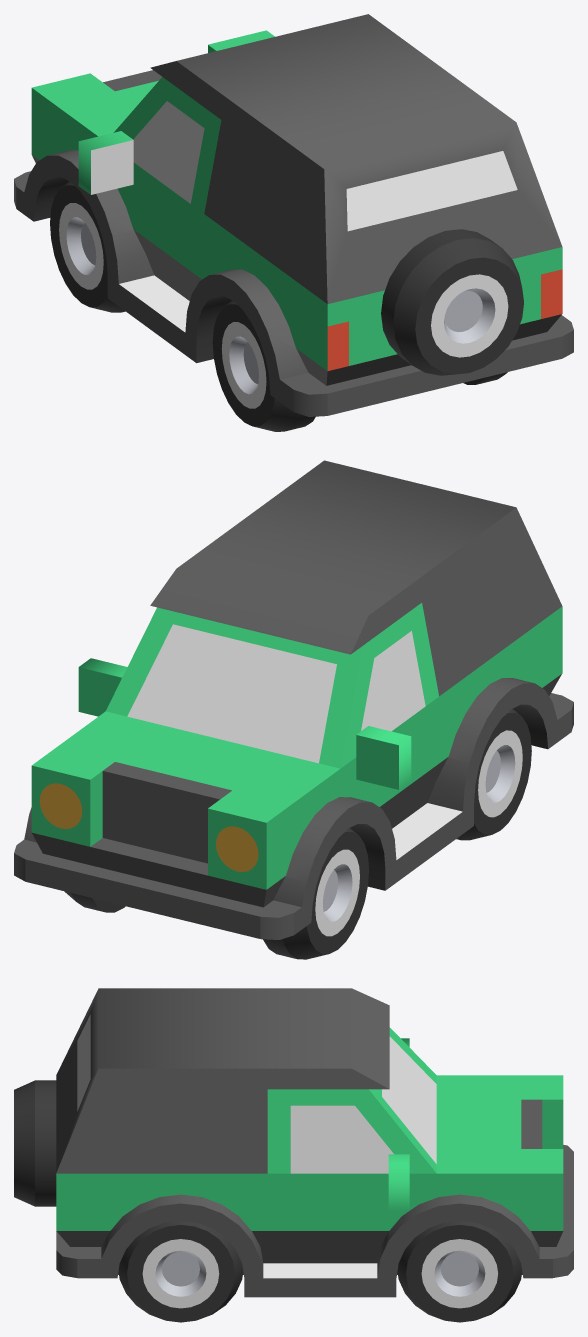
The model's file is suv.gltf.
3 renders of one model, top to bottom at view 1: azimuth 30°, elevation 25°; view 2: azimuth 150°, elevation 25°; view 3: azimuth 270°, elevation 25°, orthographic. The views are drawn at different scales.
Parts seen in each view (by area): view 1: body, wheel_back, wheel_backLeft, wheel_frontLeft; view 2: body, wheel_frontLeft, wheel_backLeft; view 3: body, wheel_backRight, wheel_frontRight, wheel_back.
Boxes of the visible parts, x1,y1,x2,y2 form: body: [14, 14, 573, 416]; wheel_back: [381, 229, 523, 375]; wheel_backLeft: [212, 300, 315, 431]; wheel_frontLeft: [50, 181, 125, 312]; body: [14, 460, 573, 939]; wheel_frontLeft: [263, 828, 368, 959]; wheel_backLeft: [456, 708, 531, 840]; body: [56, 988, 573, 1297]; wheel_backRight: [118, 1220, 243, 1322]; wheel_frontRight: [397, 1220, 522, 1322]; wheel_back: [14, 1080, 56, 1206].
Bounding box in the file's own units: 1.5 × 1.3 × 2.65.
